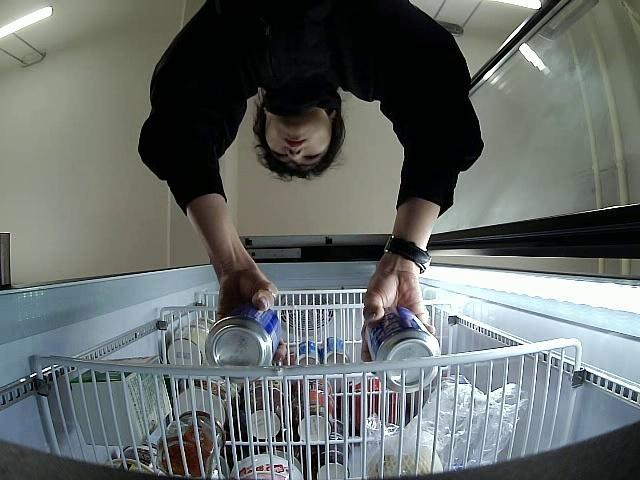13_pocariSweat: (362, 306, 438, 393), (206, 308, 281, 387)
